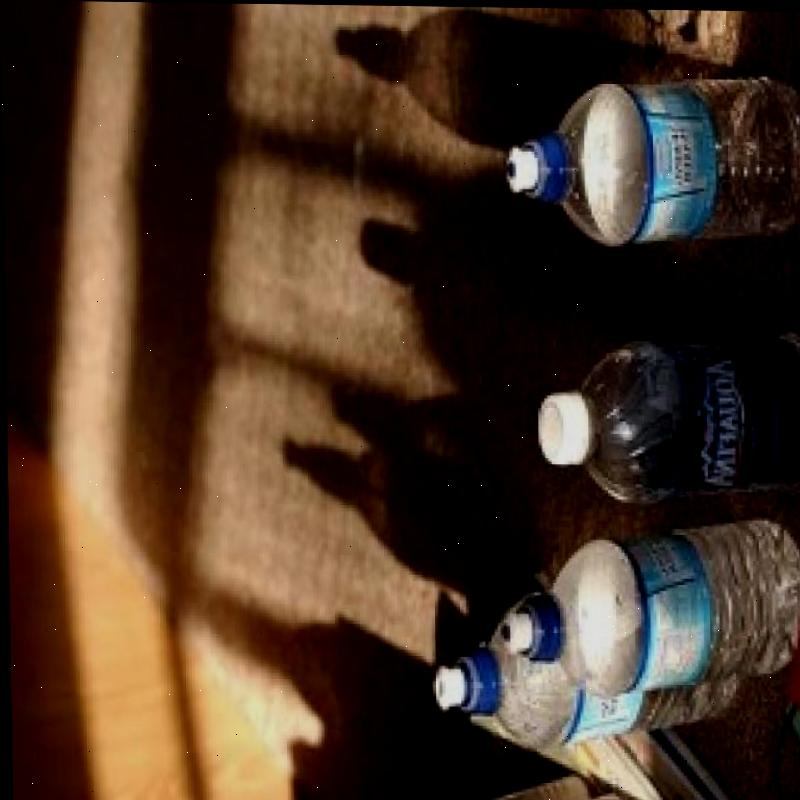botella: (496, 513, 800, 692), (497, 67, 800, 246), (538, 337, 800, 499), (430, 608, 750, 737)
